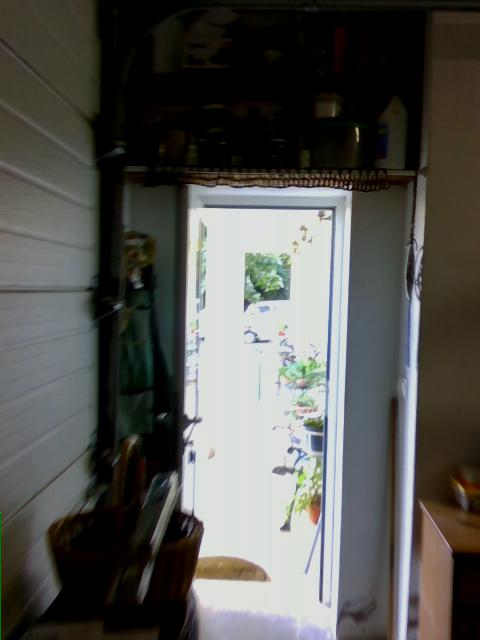open_door: (176, 180, 353, 638)
